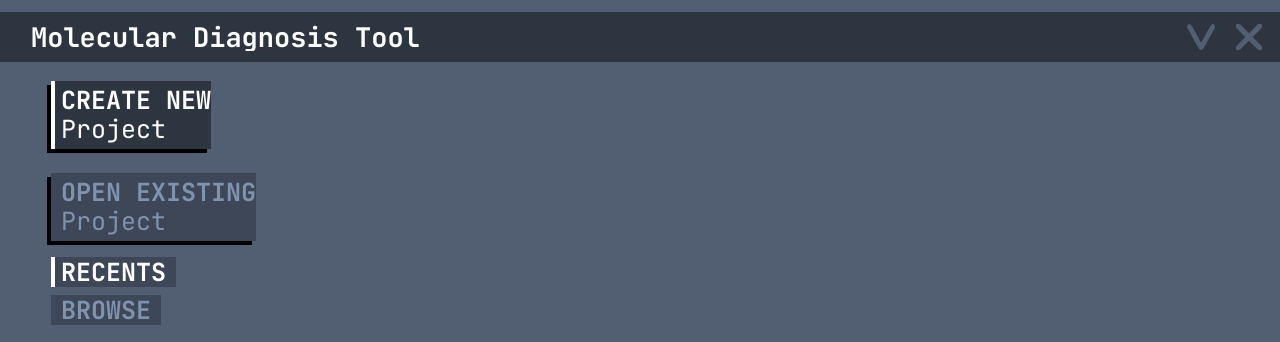
Test: FASTA candidates are vetted before they are accepted › keeps the valid files from a mixed selection and reports only the rejects
The width and height of the screenshot is (1280, 342).
Click the button "Create New Project". click: point(131, 115)
box: top-left (51, 81), bottom-right (211, 149)
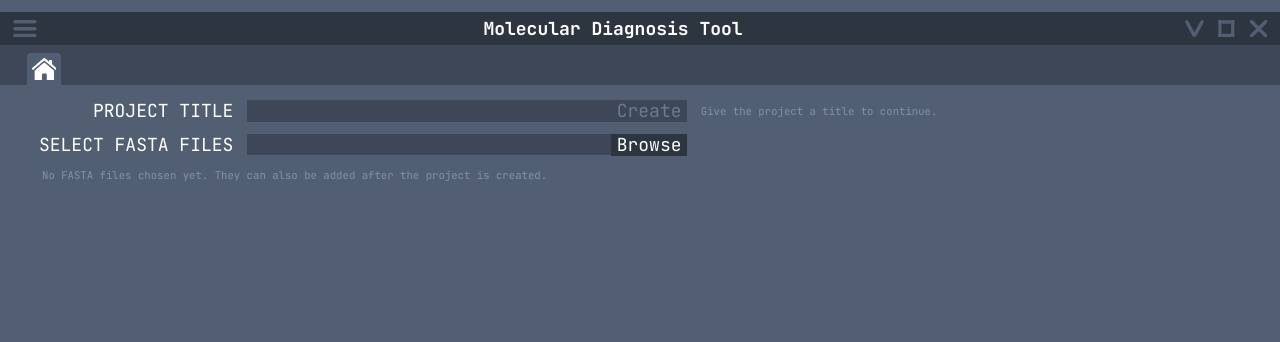
Click the button "Browse". click: point(649, 145)
box: top-left (611, 134), bottom-right (687, 156)
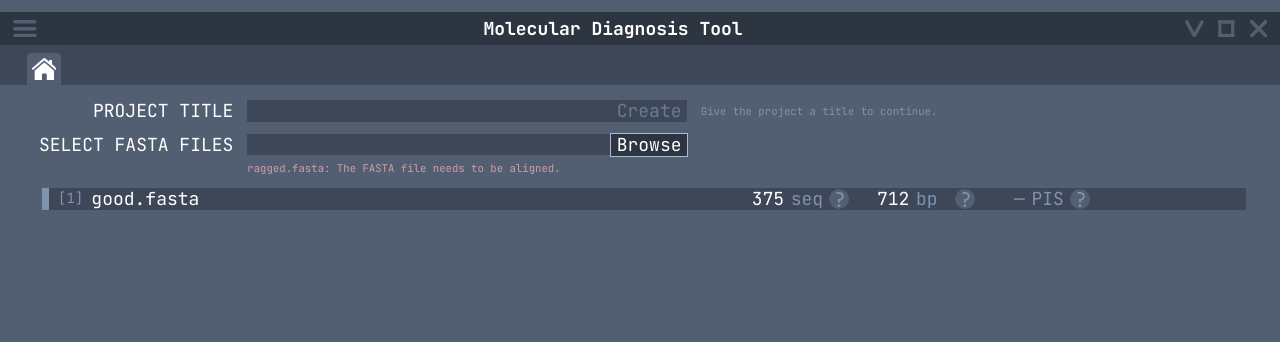
Check: the message does not show "good.fasta"
Check: the message shows "ragged.fasta", box top-left (247, 161), bottom-right (561, 175)
Check: the message shows "needs to be aligned", box top-left (247, 161), bottom-right (561, 175)
